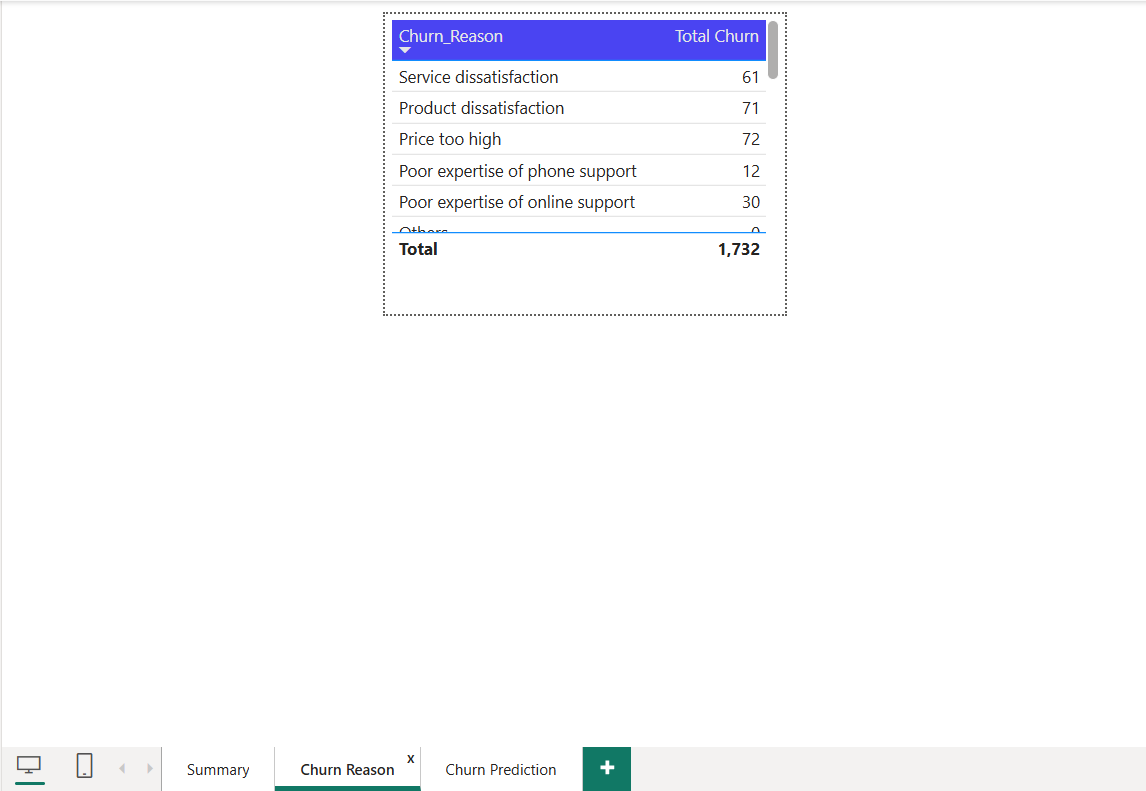

The page's visual inventory and layout, read from the dashboard file:
{"tool":"powerbi","page":{"name":"Churn Reason","canvas":[320,240],"ordinal":1},"visuals":[{"type":"tableEx","fields":{"Values":["prod_Churn.Churn_Reason","tbl_Measures.Total Churn"]},"box":[0,0,320,205],"z":0}]}

Visuals, with their boxes on the page's 320x240 design canvas (x1, y1, x2, y2). These are canvas units, not pixel positions in the 1146x791 screenshot, which may show the page scaled, cropped or inside an application window:
tableEx - prod_Churn.Churn_Reason x tbl_Measures.Total Churn: bbox=[0, 0, 320, 205]
